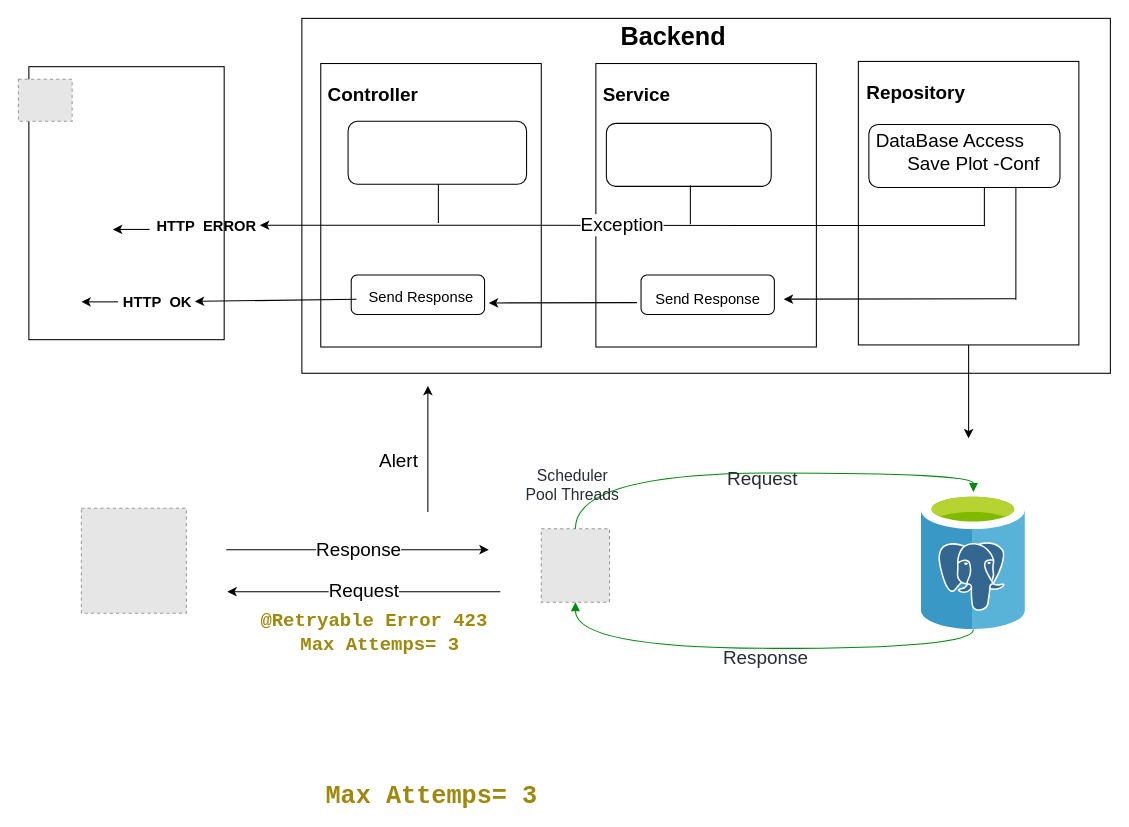
Image size: 1129x827. Some labels were removed from this diagram. Grey dashed boxes stand in for pictures. Here are the shapes that lost their labels. From the top down, the centre of each, then its label:
point (437, 152): Accept Request Validate Data
point (688, 154): Porcess Model Mapper
point (972, 560): BD Info. active Irrigation Devices and configuration
